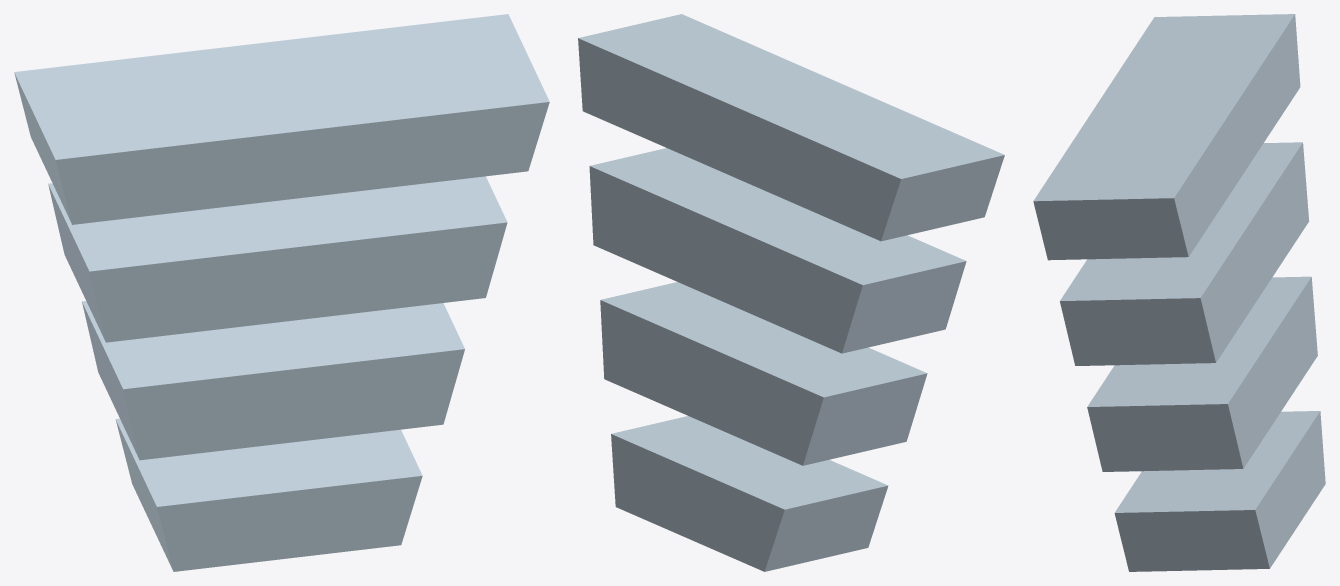
3 renders of one model, left to right at view 1: azimuth 30°, elevation 25°; view 2: azimuth 150°, elevation 25°; view 3: azimuth 270°, elevation 25°, orthographic. The views are drawn at different scales.
Parts seen in each view (by area): view 1: Cube.003; view 2: Cube.003; view 3: Cube.003.
Boxes of the visible parts, x1=… form: Cube.003: x1=14, y1=14, x2=549, y2=571; Cube.003: x1=578, y1=14, x2=1004, y2=571; Cube.003: x1=1033, y1=14, x2=1325, y2=571.
Bounding box in the file's own units: 2.1 × 2.08 × 1.27.
